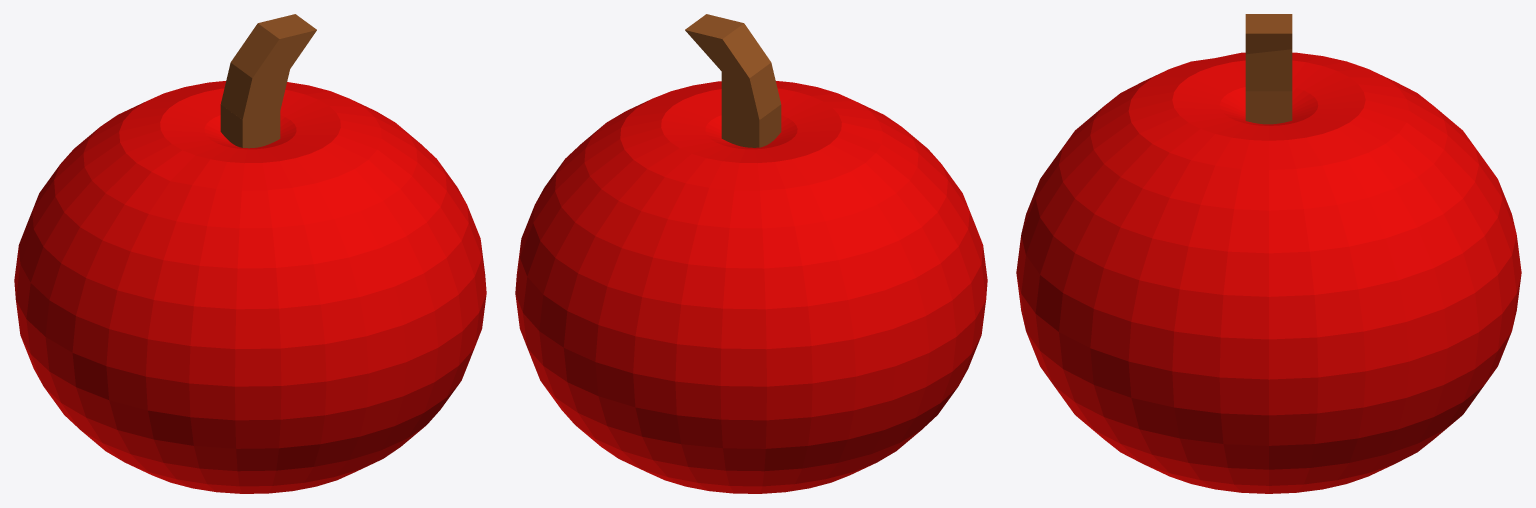
Rendered from apple.glb.
The picture shows the model from 3 angles, left to right: view 1: azimuth 30°, elevation 25°; view 2: azimuth 150°, elevation 25°; view 3: azimuth 270°, elevation 25°; orthographic projection. The views are drawn at different scales.
Parts seen in each view (by area): view 1: Sphere, Cube; view 2: Sphere, Cube; view 3: Sphere, Cube.
Part boxes in pixels (x1,y1,x2,y2): Sphere: (14, 81, 486, 493); Cube: (220, 14, 316, 148); Sphere: (515, 81, 987, 493); Cube: (685, 14, 781, 147); Sphere: (1016, 52, 1521, 493); Cube: (1245, 14, 1292, 124).
Size of the model in its own units: 2 by 2.02 by 2.
